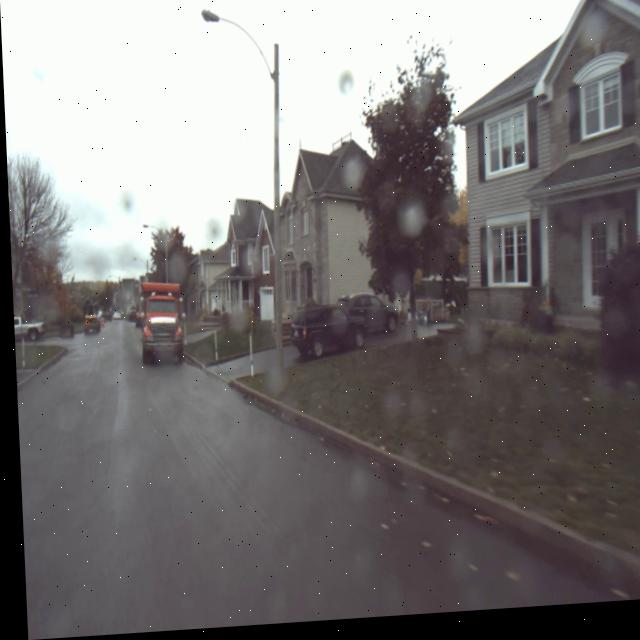truck: (128, 264, 187, 368)
